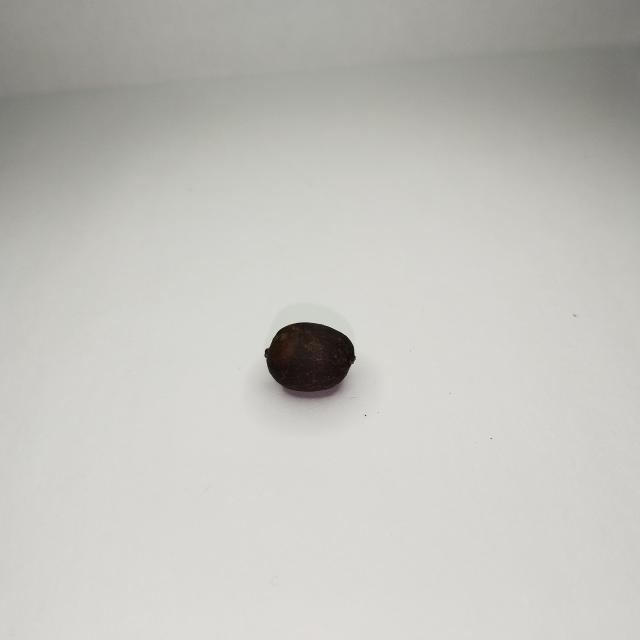Danado: (266, 322, 354, 392)
